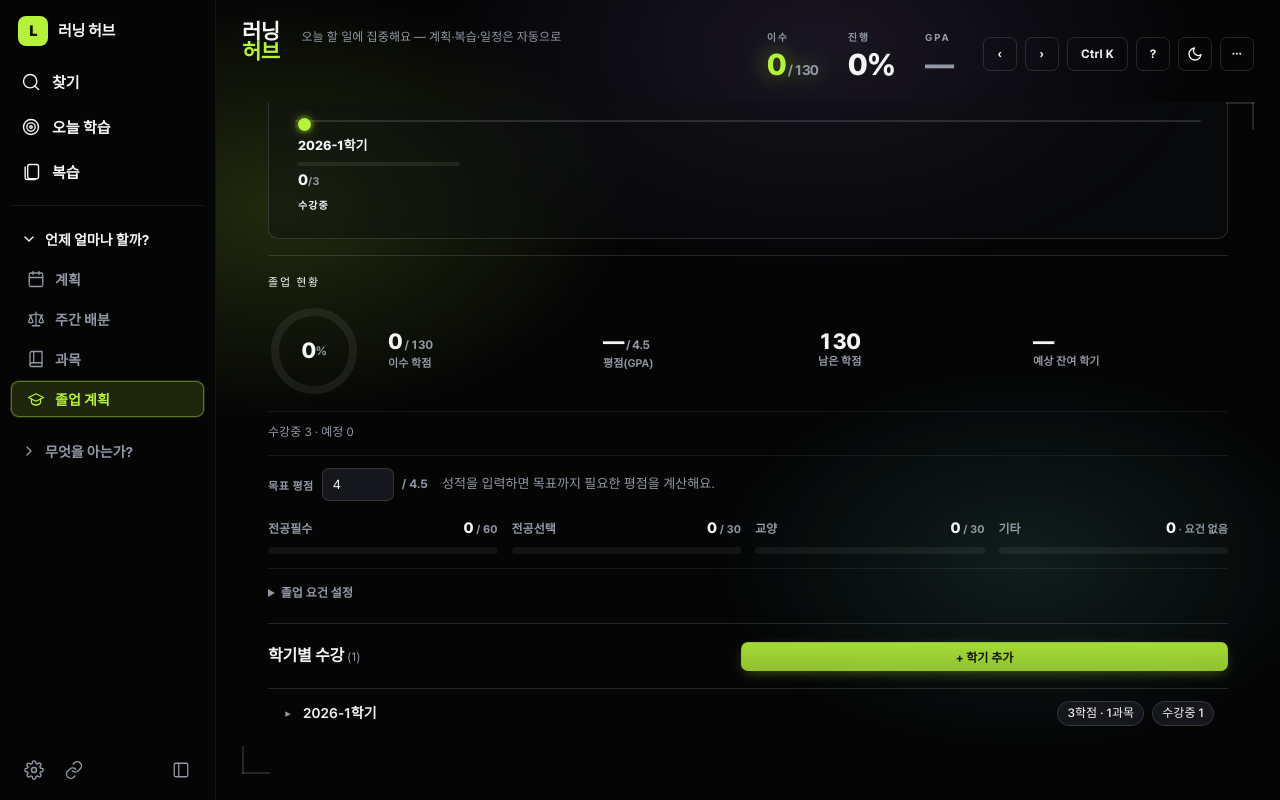
Scenario: ⚠ 회귀 방지 — 「학습 항목으로」 버튼이 뜬다(끝나지 않은 학기의 과목)
(page scrolled)
Click the text with class "ds-itemname" at (340, 713), box x1=303 y1=705 x2=377 y2=721
(page scrolled)
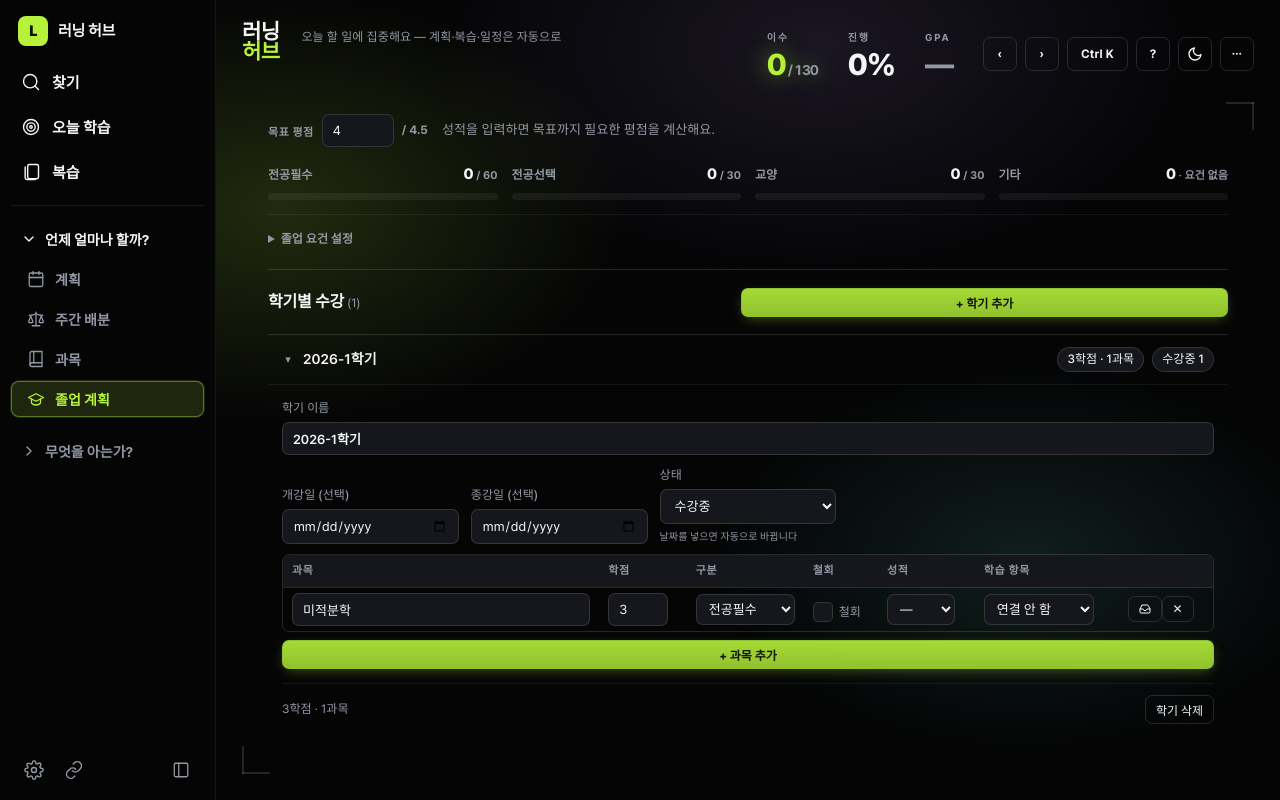
Check: the number field named "학점" is shown, box x1=608 y1=593 x2=668 y2=626
Check: the button titled "학습 항목으로" is shown, box x1=1128 y1=596 x2=1162 y2=622
